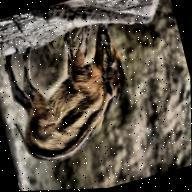boar: (0, 17, 142, 170)
